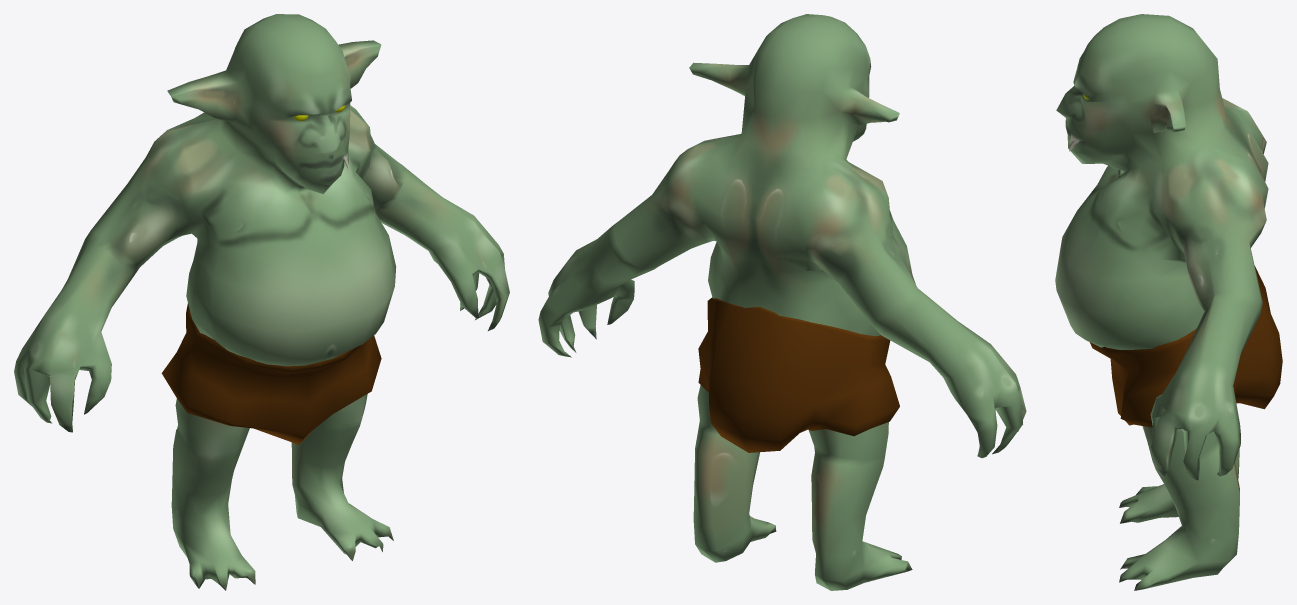
Rendered from Gob_low.fbx.
3 renders of one model, left to right at view 1: azimuth 30°, elevation 25°; view 2: azimuth 150°, elevation 25°; view 3: azimuth 270°, elevation 25°, orthographic. The views are drawn at different scales.
Visible parts, largest first — view 1: Body_low, Pants_low; view 2: Body_low, Pants_low; view 3: Body_low, Pants_low.
Boxes of the visible parts, box(x1,y1,x2,y2) form: Body_low: box(14, 14, 509, 590); Pants_low: box(161, 303, 381, 444); Body_low: box(538, 14, 1026, 590); Pants_low: box(698, 297, 899, 452); Body_low: box(1055, 14, 1268, 590); Pants_low: box(1089, 266, 1282, 427).
Size of the model in its own units: 1.97 by 2.15 by 0.8386.
3 materials, 1 textured.
